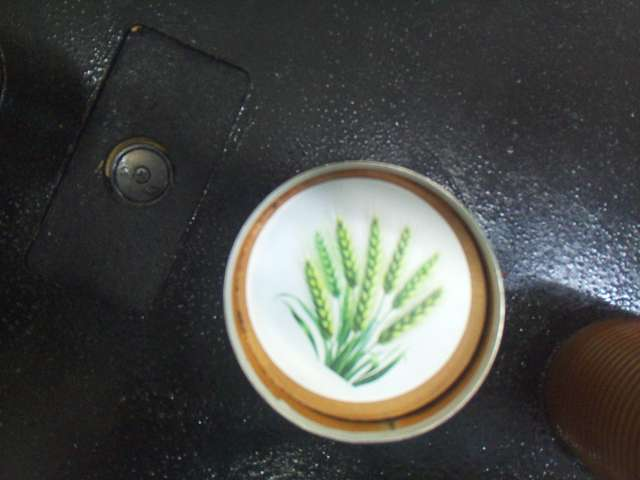wheat_barrel: (248, 181, 470, 401)
